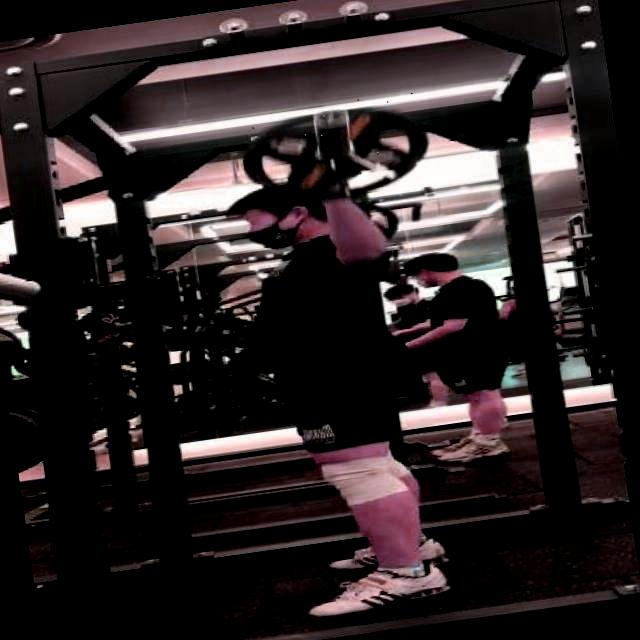barbell: (216, 86, 442, 218)
